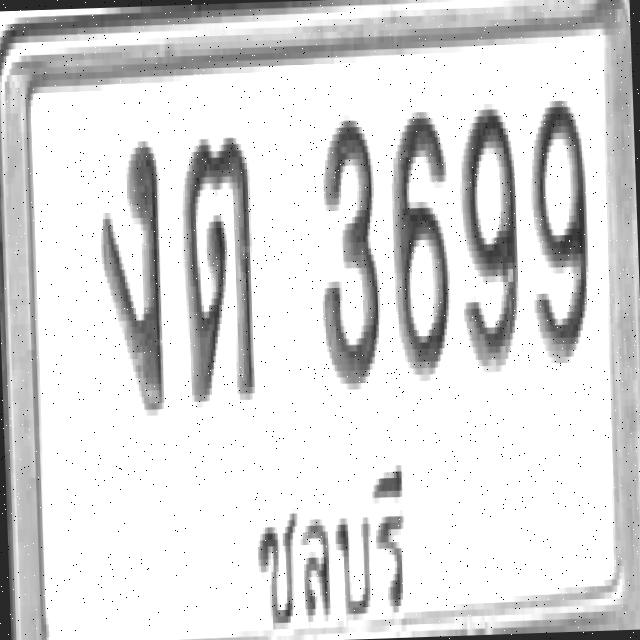16NgorNgu: (96, 134, 166, 417)
3: (314, 114, 382, 390)
30TorTao: (178, 128, 258, 404)
6: (387, 104, 452, 375)
9: (526, 93, 592, 364), (456, 101, 521, 372)
Chonburi: (245, 438, 414, 640)
